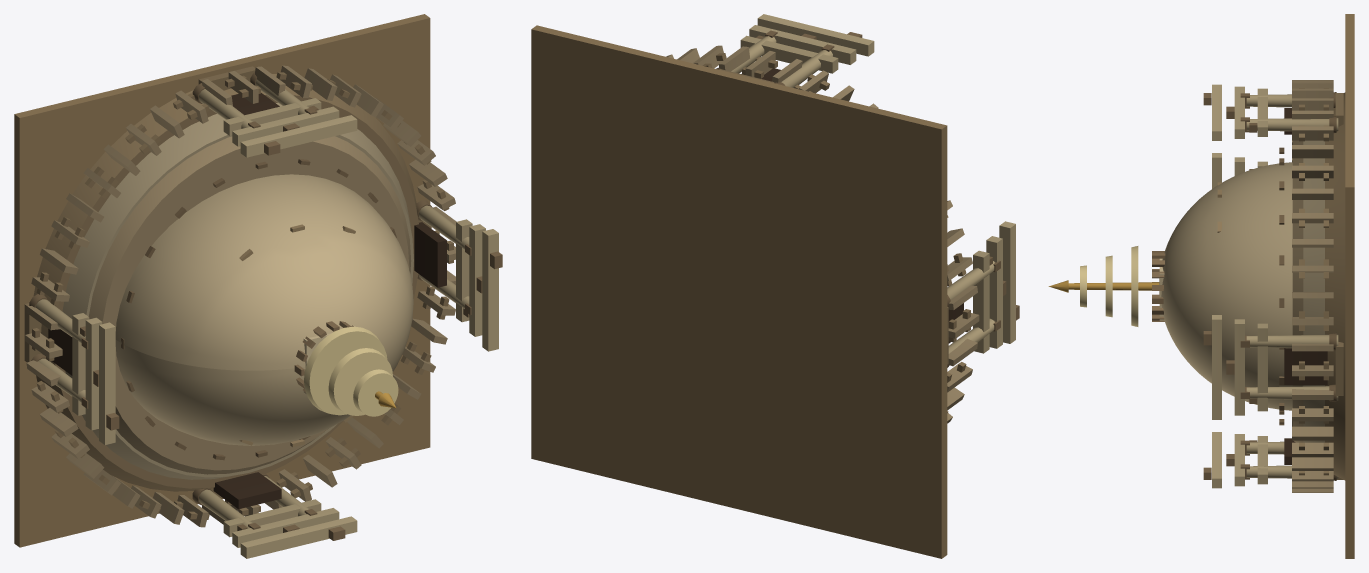
Rendered from sanchi-stupa.glb.
The picture shows the model from 3 angles, left to right: view 1: azimuth 30°, elevation 25°; view 2: azimuth 150°, elevation 25°; view 3: azimuth 270°, elevation 25°; orthographic projection. The views are drawn at different scales.
Parts seen in each view (by area): view 1: part-dome, part-ground, part-rail, part-torana, part-stoneShade, part-stone, part-umbrella, part-shadow, part-carving; view 2: part-ground, part-torana, part-rail, part-stoneShade, part-carving; view 3: part-dome, part-rail, part-torana, part-stoneShade, part-ground, part-carving, part-stone, part-umbrella, part-shadow, part-finial.
Boxes of the visible parts, bbox=[...] form: part-dome: bbox=[115, 174, 413, 445]; part-ground: bbox=[14, 14, 430, 547]; part-rail: bbox=[25, 65, 456, 527]; part-torana: bbox=[35, 79, 498, 558]; part-stoneShade: bbox=[24, 66, 453, 519]; part-stone: bbox=[62, 103, 413, 479]; part-umbrella: bbox=[304, 326, 398, 416]; part-shadow: bbox=[48, 93, 446, 509]; part-carving: bbox=[29, 72, 502, 540]; part-ground: bbox=[531, 25, 947, 558]; part-torana: bbox=[731, 14, 1015, 353]; part-rail: bbox=[666, 45, 979, 423]; part-stoneShade: bbox=[702, 53, 970, 412]; part-carving: bbox=[716, 30, 1019, 367]; part-dome: bbox=[1159, 162, 1292, 410]; part-rail: bbox=[1292, 80, 1333, 492]; part-torana: bbox=[1212, 84, 1338, 488]; part-stoneShade: bbox=[1217, 88, 1345, 480]; part-ground: bbox=[1345, 14, 1354, 558]; part-carving: bbox=[1152, 92, 1336, 480]; part-stone: bbox=[1303, 140, 1324, 442]; part-umbrella: bbox=[1080, 246, 1138, 326]; part-shadow: bbox=[1284, 108, 1327, 464]; part-finial: bbox=[1048, 280, 1159, 292].
Size of the model in its own units: 1.53 by 1.53 by 1.13.
